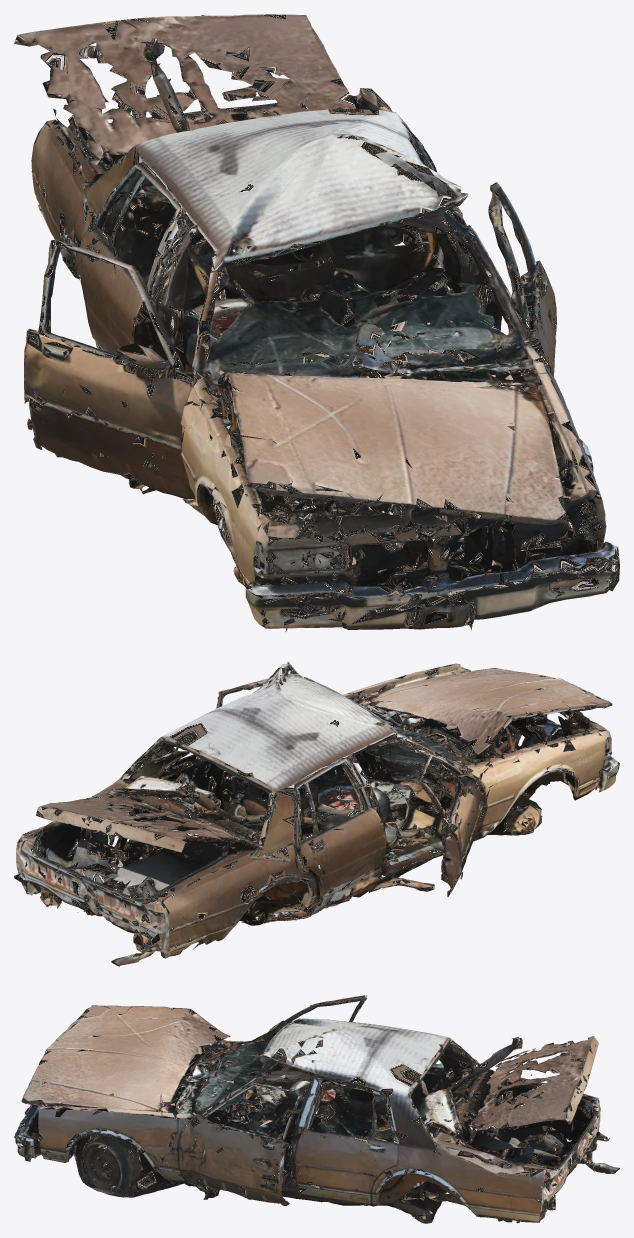
The model's file is carro_batido_scan_03.glb.
The picture shows the model from 3 angles, top to bottom: view 1: azimuth 30°, elevation 25°; view 2: azimuth 150°, elevation 25°; view 3: azimuth 270°, elevation 25°; orthographic projection. The views are drawn at different scales.
Parts seen in each view (by area): view 1: Object_2; view 2: Object_2; view 3: Object_2.
Part boxes in pixels (x1,y1,x2,y2): Object_2: (14, 14, 619, 631); Object_2: (14, 661, 619, 966); Object_2: (14, 995, 619, 1223).
Bounding box in the file's own units: 2.41 × 1.22 × 4.2.
Materials: 1 (1 with a texture image).
